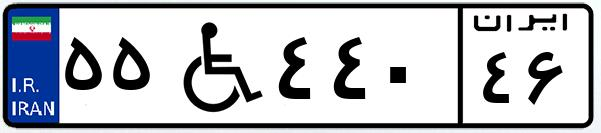0: (385, 28, 445, 110)
4: (270, 28, 330, 110), (330, 28, 385, 110), (475, 38, 525, 113)
5: (57, 26, 110, 100), (110, 28, 158, 98)
6: (525, 38, 570, 115)
ژ (معلولین و جانبازان): (158, 12, 270, 120)
